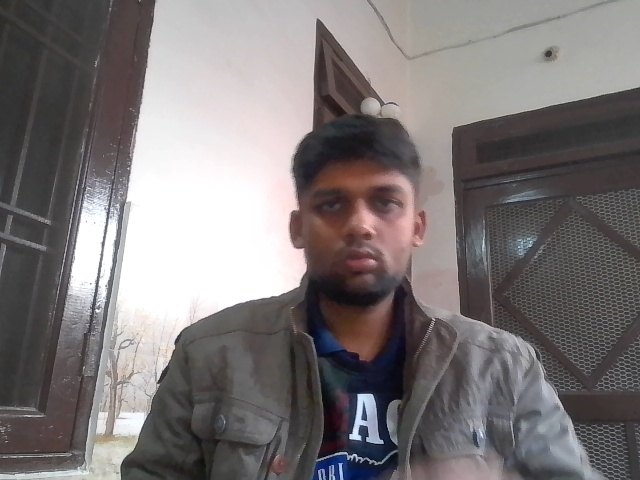No: (345, 405, 522, 480)
